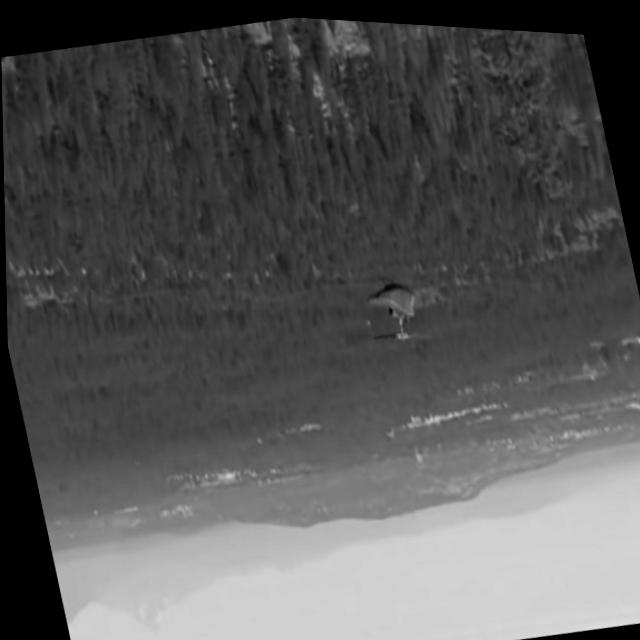helikopter: (323, 221, 466, 372)
